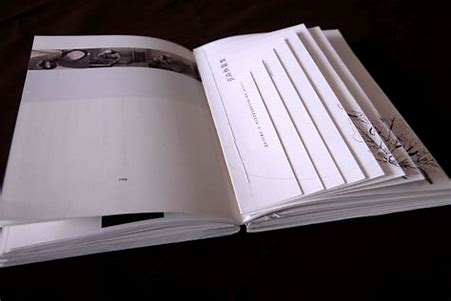book: (4, 20, 451, 275)
